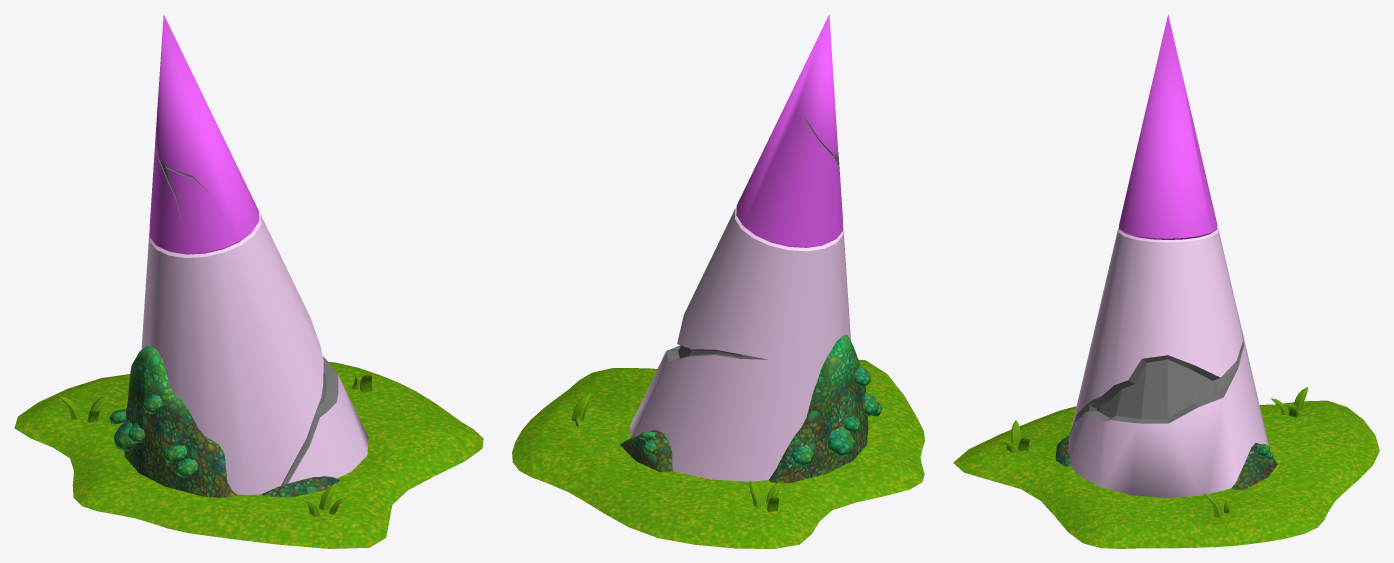
The model's file is SpikesRuins.fbx.
The picture shows the model from 3 angles, left to right: view 1: azimuth 30°, elevation 25°; view 2: azimuth 150°, elevation 25°; view 3: azimuth 270°, elevation 25°; orthographic projection. The views are drawn at different scales.
Parts seen in each view (by area): view 1: SpikesRuins_LOD0; view 2: SpikesRuins_LOD0; view 3: SpikesRuins_LOD0.
Boxes of the visible parts, x1,y1,x2,y2 form: SpikesRuins_LOD0: (14,14,483,548); SpikesRuins_LOD0: (512,14,924,548); SpikesRuins_LOD0: (953,14,1379,548).
Size of what is drawn, in the model's own units: 1163 by 1389 by 1303.
